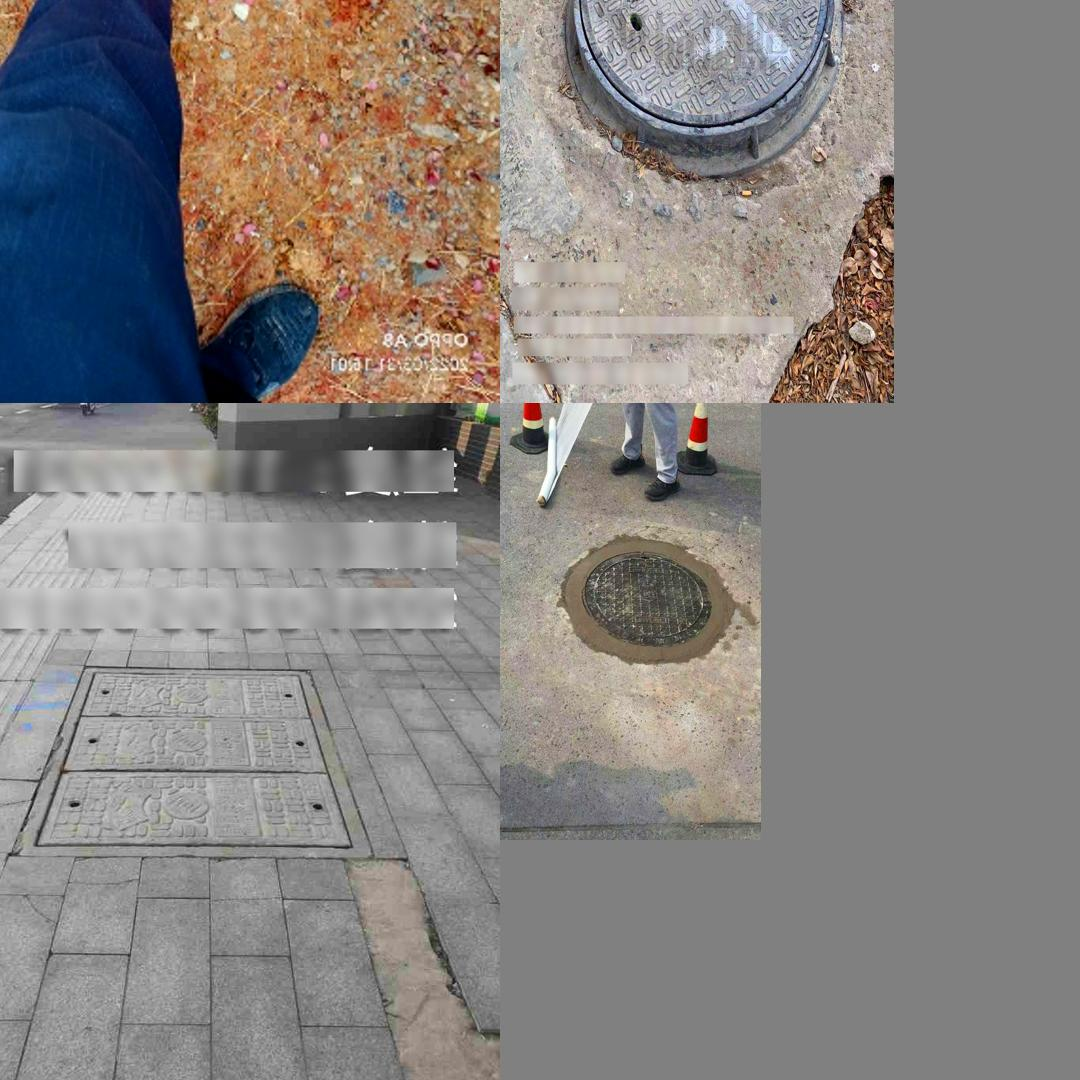good: (13, 666, 374, 859), (572, 0, 833, 136), (557, 525, 740, 667)
